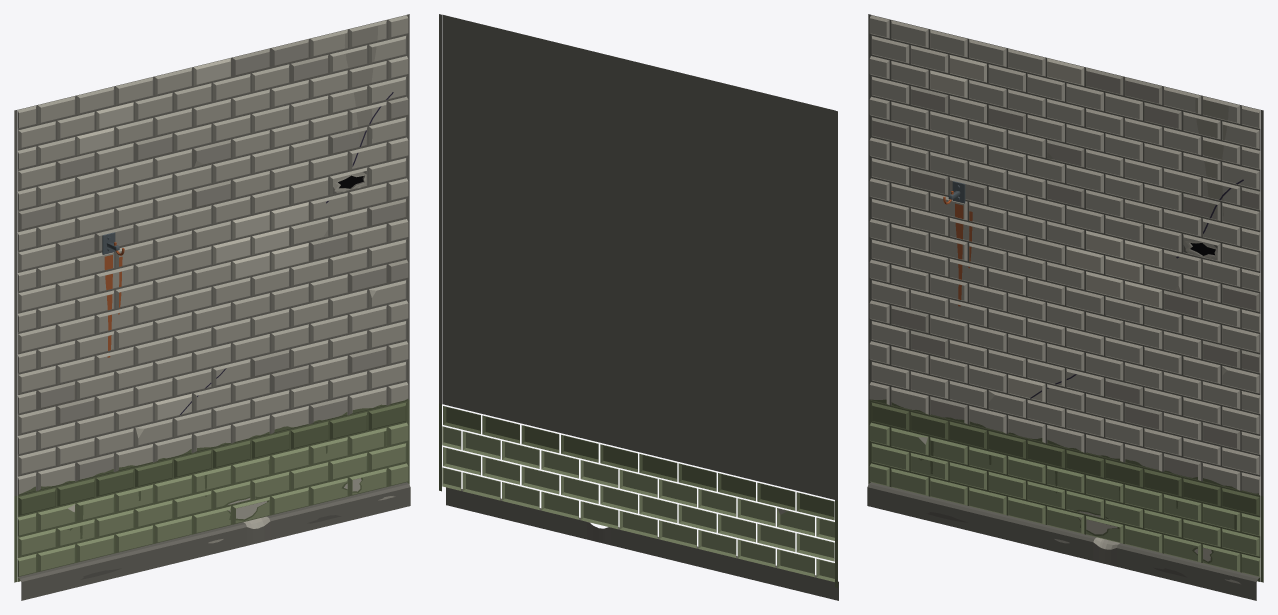
File: wall_panel_b.glb
The picture shows the model from 3 angles, left to right: view 1: azimuth 30°, elevation 25°; view 2: azimuth 150°, elevation 25°; view 3: azimuth 330°, elevation 25°; orthographic projection.
Parts seen in each view (by area): view 1: Wall; view 2: Wall; view 3: Wall.
Part boxes in pixels (x1=…): Wall: x1=14, y1=14, x2=410, y2=600; Wall: x1=439, y1=14, x2=838, y2=600; Wall: x1=867, y1=14, x2=1263, y2=600.
Bounding box in the file's own units: 5.08 × 5.99 × 0.378.
